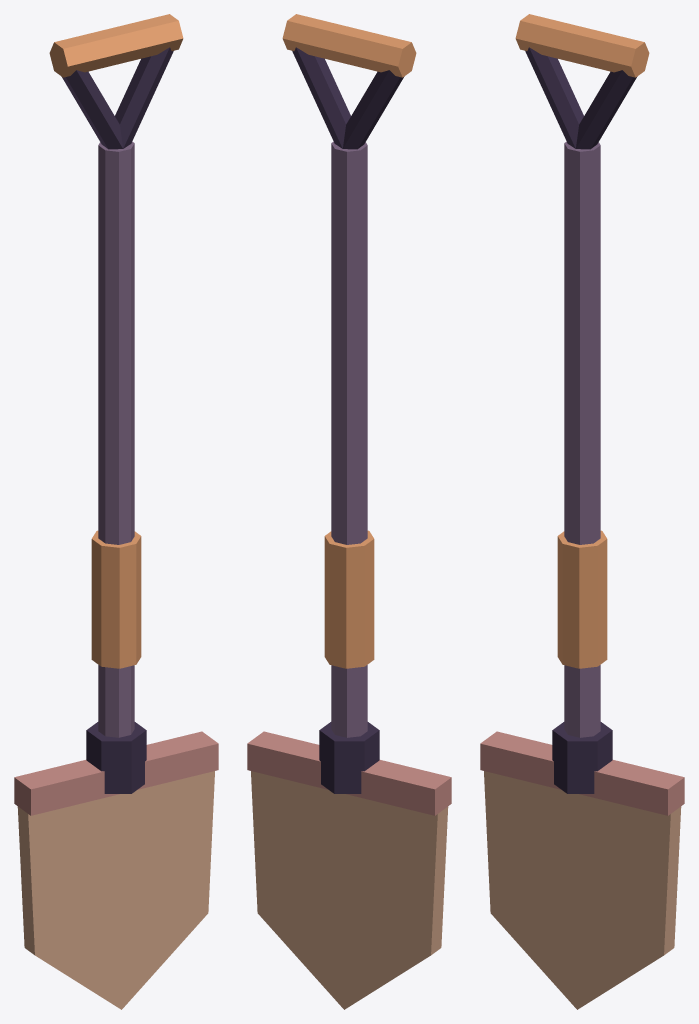
File: regolith_shovel.obj
The picture shows the model from 3 angles, left to right: view 1: azimuth 30°, elevation 25°; view 2: azimuth 150°, elevation 25°; view 3: azimuth 330°, elevation 25°; orthographic projection.
Visible parts, largest first — view 1: regolith_shovel_clay_sand, regolith_shovel_mauve, regolith_shovel_warm_orange, regolith_shovel_deep_purple, regolith_shovel_dusty_rose; view 2: regolith_shovel_clay_sand, regolith_shovel_mauve, regolith_shovel_warm_orange, regolith_shovel_deep_purple, regolith_shovel_dusty_rose; view 3: regolith_shovel_clay_sand, regolith_shovel_mauve, regolith_shovel_warm_orange, regolith_shovel_deep_purple, regolith_shovel_dusty_rose.
Part boxes in pixels (x1,y1,x2,y2): regolith_shovel_clay_sand: (17,771,214,1009); regolith_shovel_mauve: (98,141,134,737); regolith_shovel_warm_orange: (49,14,183,668); regolith_shovel_deep_purple: (61,47,173,793); regolith_shovel_dusty_rose: (14,731,218,815); regolith_shovel_clay_sand: (251,771,448,1009); regolith_shovel_mauve: (331,141,367,737); regolith_shovel_warm_orange: (282,14,416,668); regolith_shovel_deep_purple: (292,47,404,793); regolith_shovel_dusty_rose: (247,731,451,815); regolith_shovel_clay_sand: (484,771,681,1009); regolith_shovel_mauve: (564,141,600,737); regolith_shovel_warm_orange: (515,14,649,668); regolith_shovel_deep_purple: (525,47,637,793); regolith_shovel_dusty_rose: (480,731,684,815).
Bounding box in the file's own units: 0.26 × 1.29 × 0.072.
